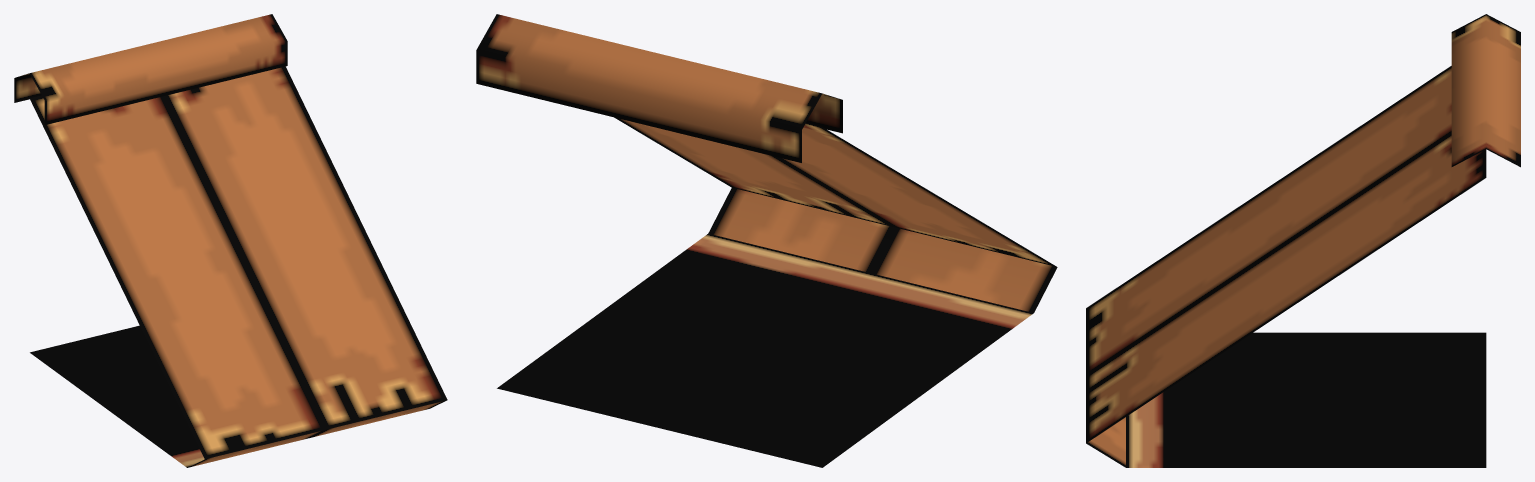
The model's file is arch_roof_straightHalf_wood.FBX.
3 renders of one model, left to right at view 1: azimuth 30°, elevation 25°; view 2: azimuth 150°, elevation 25°; view 3: azimuth 270°, elevation 25°, orthographic. The views are drawn at different scales.
Parts seen in each view (by area): view 1: arch_roof_straightHalf_wood; view 2: arch_roof_straightHalf_wood; view 3: arch_roof_straightHalf_wood.
Part boxes in pixels (x1,y1,x2,y2): arch_roof_straightHalf_wood: (14,14,447,467); arch_roof_straightHalf_wood: (476,14,1057,467); arch_roof_straightHalf_wood: (1086,14,1520,467).
Bounding box in the file's own units: 2 × 2.2 × 2.72.
Materials: 1 (1 with a texture image).
